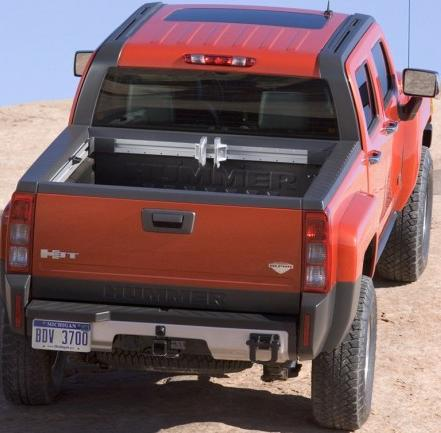back_view: (8, 188, 341, 371)
backlight: (294, 199, 336, 322)
side_glass: (353, 34, 398, 151)
